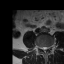CCS_normal: (43, 44, 45, 54)
LFS_normal: (47, 44, 50, 51)
LLS_normal: (45, 44, 47, 52)
RFS_normal: (39, 44, 41, 51)
RLS_normal: (41, 44, 43, 51)
